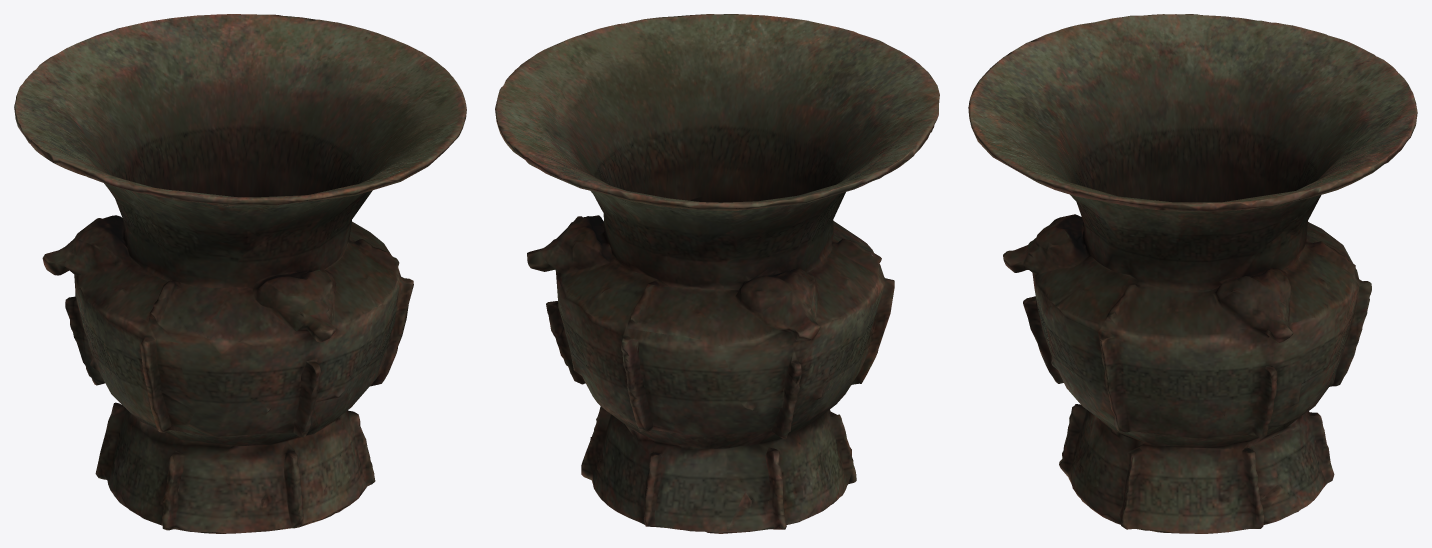
File: Vessel 3.fbx
3 views of the same model, side by side, from view 1: azimuth 30°, elevation 25°; view 2: azimuth 150°, elevation 25°; view 3: azimuth 270°, elevation 25° (orthographic).
Parts seen in each view (by area): view 1: Vessel_3; view 2: Vessel_3; view 3: Vessel_3.
Boxes of the visible parts, x1,y1,x2,y2 form: Vessel_3: (14,14,466,533); Vessel_3: (495,14,939,533); Vessel_3: (968,14,1417,533).
Bounding box in the file's own units: 86.04 × 80.55 × 86.62.
Materials: 1 (1 with a texture image).
